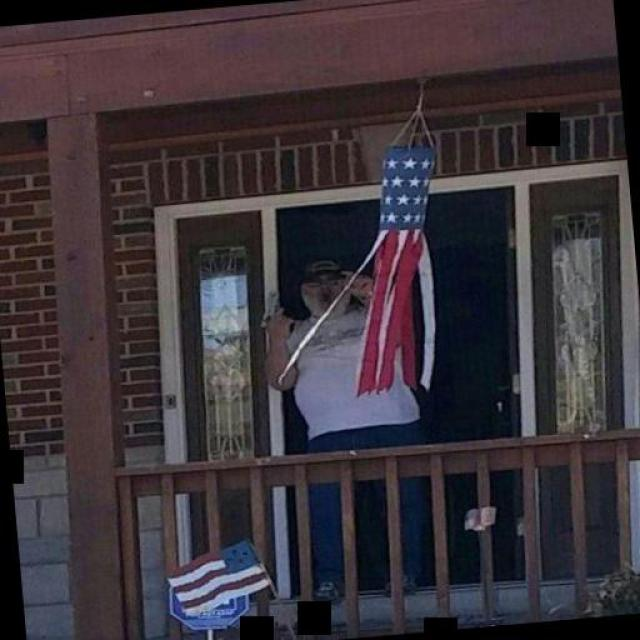gun: (242, 289, 302, 340)
